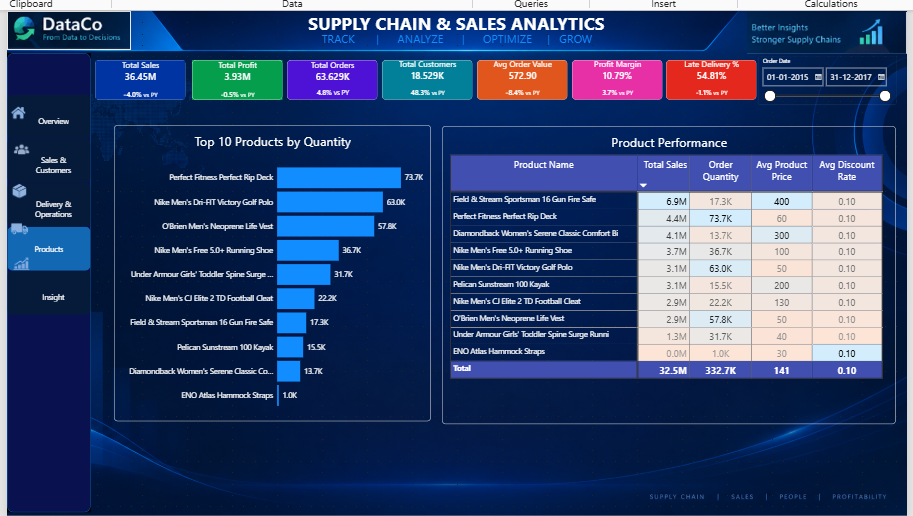

The page's visual inventory and layout, read from the dashboard file:
{"tool":"powerbi","page":{"name":"Products","canvas":[1920,1080],"ordinal":3},"visuals":[{"type":"textbox","box":[488,0,940.8,83.2],"z":0},{"type":"group","id":"g1","title":"Group 10","box":[0,88.7,179.2,980],"z":0,"group":"g2"},{"type":"shape","box":[0,88.7,178.7,980],"z":500,"group":"g1"},{"type":"textbox","box":[535.5,42.7,849.1,40.5],"z":1000},{"type":"image","box":[6.4,275.2,50,40],"z":1000,"group":"g2"},{"type":"slicer","fields":{"Values":["DateTable.Date"]},"box":[1605.2,98.6,292,100],"z":2000},{"type":"image","box":[4.3,192,40,50],"z":2000,"group":"g2"},{"type":"textbox","box":[0,193.6,150,886.4],"z":2000},{"type":"image","box":[0,0,264.5,83.2],"z":3000},{"type":"image","box":[6.4,358.4,40,50],"z":3000,"group":"g2"},{"type":"image","box":[1578.7,0,341.3,93.9],"z":4000},{"type":"image","box":[6.4,439.5,40,50],"z":4000,"group":"g2"},{"type":"barChart","title":"Top 10 Products by Quantity","fields":{"Category":["public dataco_raw.Product Name"],"Y":["Sum(public dataco_raw.Order Item Quantity)"]},"box":[228,244,676,632],"z":5000},{"type":"image","box":[10.7,514.2,40,50],"z":5000,"group":"g2"},{"type":"pivotTable","title":"Product Performance","fields":{"Rows":["public dataco_raw.Product Name"],"Values":["Sum(public dataco_raw.Sales)","Sum(public dataco_raw.Order Item Quantity)","Avg(public dataco_raw.Order Item Product Price)","Avg(public dataco_raw.Order Item Discount Rate)"]},"box":[928.6,245.7,968,636],"z":6000},{"type":"group","id":"g2","title":"Group 11","box":[0,88.7,179.2,980],"z":8000},{"type":"pageNavigator","box":[0,176.9,179.2,475.7],"z":22000,"group":"g1"},{"type":"cardVisual","fields":{"Data":["Sum(public dataco_raw.Sales)"]},"box":[188.6,105.2,193,85],"z":31000},{"type":"cardVisual","fields":{"Data":["Sum(public dataco_raw.Order Profit Per Order)"]},"box":[395.2,105.2,193,85],"z":33000},{"type":"cardVisual","fields":{"Data":["Count(public dataco_raw.Order Id)"]},"box":[598.6,105.2,193,85],"z":35000},{"type":"cardVisual","fields":{"Data":["Count(public dataco_raw.Customer Id)"]},"box":[801.6,105.2,193,85],"z":37000},{"type":"cardVisual","fields":{"Data":["public dataco_raw.AOV"]},"box":[1003.6,105.2,193,85],"z":39000},{"type":"cardVisual","fields":{"Data":["public dataco_raw.Profit Margin"]},"box":[1206.9,105.2,193,85.7],"z":41000},{"type":"cardVisual","fields":{"Data":["public dataco_raw.Late Delivery %"]},"box":[1406.9,105.2,193,85.7],"z":44000}]}

Visuals, with their boxes on the page's 1920x1080 design canvas (x1, y1, x2, y2). These are canvas units, not pixel positions in the 913x516 screenshot, which may show the page scaled, cropped or inside an application window:
textbox: {"x1": 488, "y1": 0, "x2": 1429, "y2": 83}
"Group 10" group: {"x1": 0, "y1": 89, "x2": 179, "y2": 1069}
shape: {"x1": 0, "y1": 89, "x2": 179, "y2": 1069}
textbox: {"x1": 536, "y1": 43, "x2": 1385, "y2": 83}
image: {"x1": 6, "y1": 275, "x2": 56, "y2": 315}
slicer - DateTable.Date: {"x1": 1605, "y1": 99, "x2": 1897, "y2": 199}
image: {"x1": 4, "y1": 192, "x2": 44, "y2": 242}
textbox: {"x1": 0, "y1": 194, "x2": 150, "y2": 1080}
image: {"x1": 0, "y1": 0, "x2": 264, "y2": 83}
image: {"x1": 6, "y1": 358, "x2": 46, "y2": 408}
image: {"x1": 1579, "y1": 0, "x2": 1920, "y2": 94}
image: {"x1": 6, "y1": 440, "x2": 46, "y2": 490}
"Top 10 Products by Quantity" barChart: {"x1": 228, "y1": 244, "x2": 904, "y2": 876}
image: {"x1": 11, "y1": 514, "x2": 51, "y2": 564}
"Product Performance" pivotTable: {"x1": 929, "y1": 246, "x2": 1897, "y2": 882}
"Group 11" group: {"x1": 0, "y1": 89, "x2": 179, "y2": 1069}
pageNavigator: {"x1": 0, "y1": 177, "x2": 179, "y2": 653}
cardVisual - Sum(public dataco_raw.Sales): {"x1": 189, "y1": 105, "x2": 382, "y2": 190}
cardVisual - Sum(public dataco_raw.Order Profit Per Order): {"x1": 395, "y1": 105, "x2": 588, "y2": 190}
cardVisual - Count(public dataco_raw.Order Id): {"x1": 599, "y1": 105, "x2": 792, "y2": 190}
cardVisual - Count(public dataco_raw.Customer Id): {"x1": 802, "y1": 105, "x2": 995, "y2": 190}
cardVisual - public dataco_raw.AOV: {"x1": 1004, "y1": 105, "x2": 1197, "y2": 190}
cardVisual - public dataco_raw.Profit Margin: {"x1": 1207, "y1": 105, "x2": 1400, "y2": 191}
cardVisual - public dataco_raw.Late Delivery %: {"x1": 1407, "y1": 105, "x2": 1600, "y2": 191}
